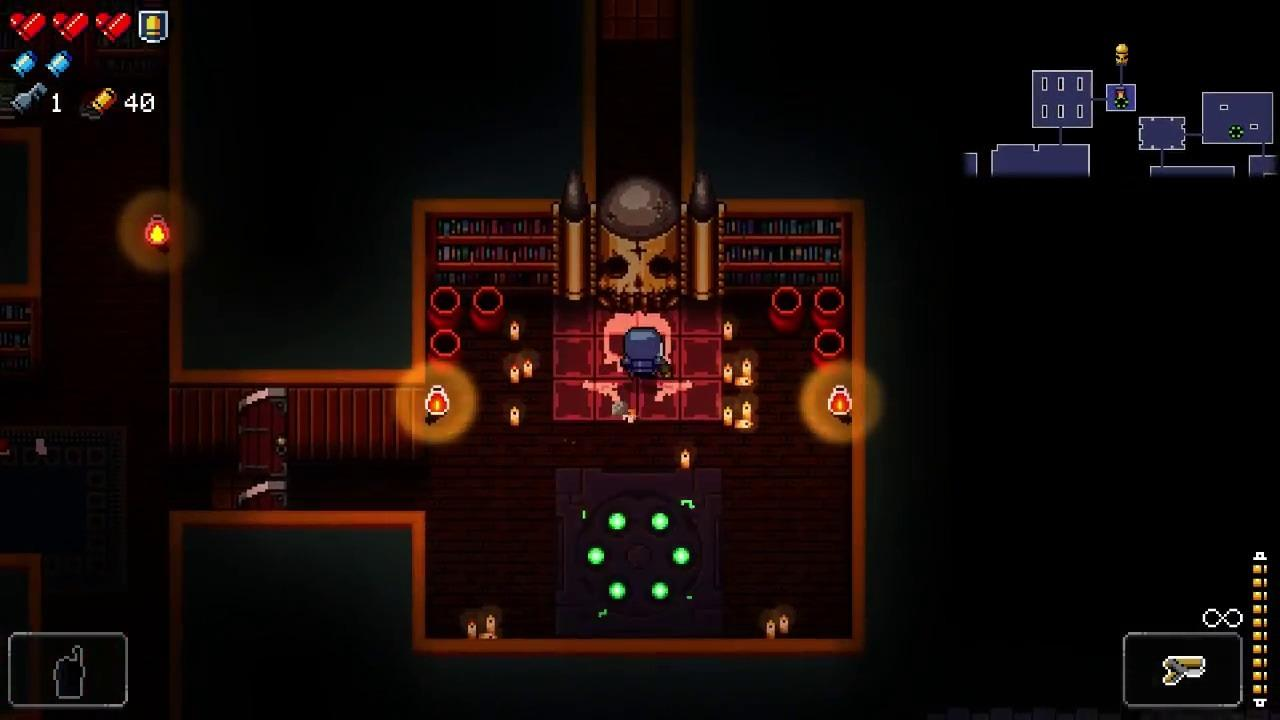boss_entry: (554, 294, 723, 422)
player: (623, 326, 664, 380)
teleporter: (555, 468, 724, 634)
unlocked_door: (239, 387, 287, 511)
